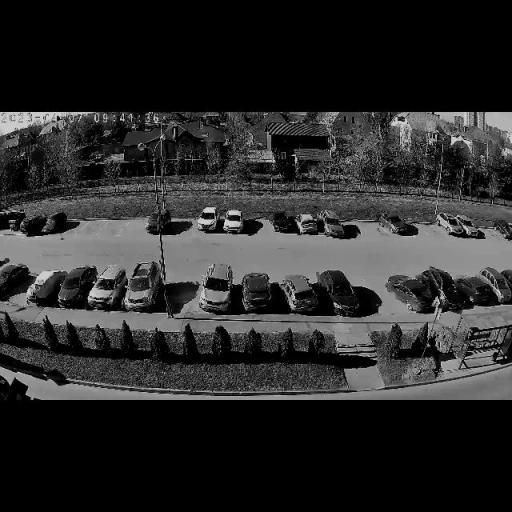busy: (194, 260, 242, 314), (119, 261, 166, 312), (387, 274, 442, 315), (422, 269, 470, 312), (323, 272, 368, 314), (82, 266, 126, 308), (280, 274, 324, 313), (238, 272, 280, 312), (54, 268, 93, 310), (23, 271, 63, 305), (455, 274, 494, 307), (481, 265, 512, 305), (0, 259, 27, 302), (435, 214, 483, 238), (0, 371, 34, 400), (319, 211, 350, 239), (378, 213, 414, 237), (219, 209, 247, 234), (269, 210, 296, 235), (196, 207, 224, 231), (145, 208, 170, 234), (38, 213, 68, 233), (296, 215, 322, 235), (20, 214, 46, 234), (495, 220, 512, 241)
free: (163, 276, 199, 316), (10, 270, 36, 308), (362, 291, 396, 314), (246, 214, 268, 236), (339, 216, 359, 237), (478, 222, 496, 240), (126, 222, 149, 236), (104, 223, 126, 236), (170, 220, 193, 232), (405, 219, 419, 237), (85, 224, 105, 234), (360, 224, 380, 234), (60, 224, 78, 234), (424, 226, 440, 236)
